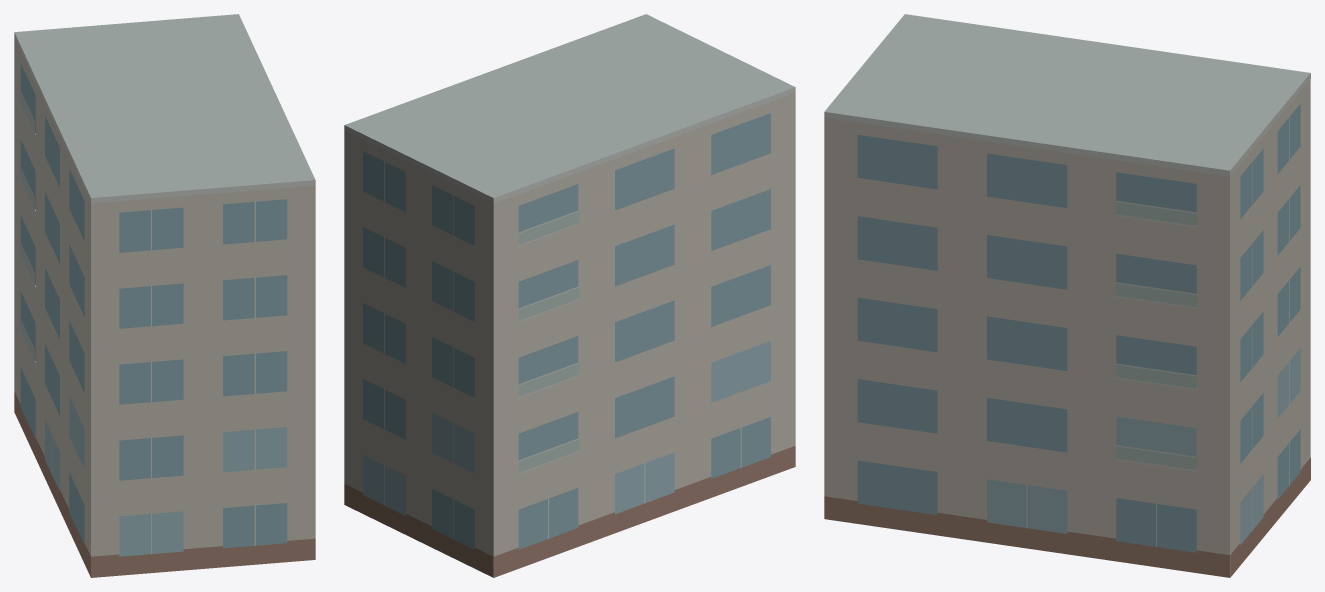
File: survey-upis-33043152.glb
3 views of the same model, side by side, from view 1: azimuth 30°, elevation 25°; view 2: azimuth 150°, elevation 25°; view 3: azimuth 270°, elevation 25° (orthographic). The views are drawn at different scales.
Visible parts, largest first — view 1: survey-upis-33043152.tmp; view 2: survey-upis-33043152.tmp; view 3: survey-upis-33043152.tmp.
Boxes of the visible parts, x1=… form: survey-upis-33043152.tmp: x1=14, y1=14, x2=315, y2=577; survey-upis-33043152.tmp: x1=344, y1=14, x2=795, y2=577; survey-upis-33043152.tmp: x1=824, y1=14, x2=1310, y2=577.
Bounding box in the file's own units: 13.96 × 16.9 × 18.31.
